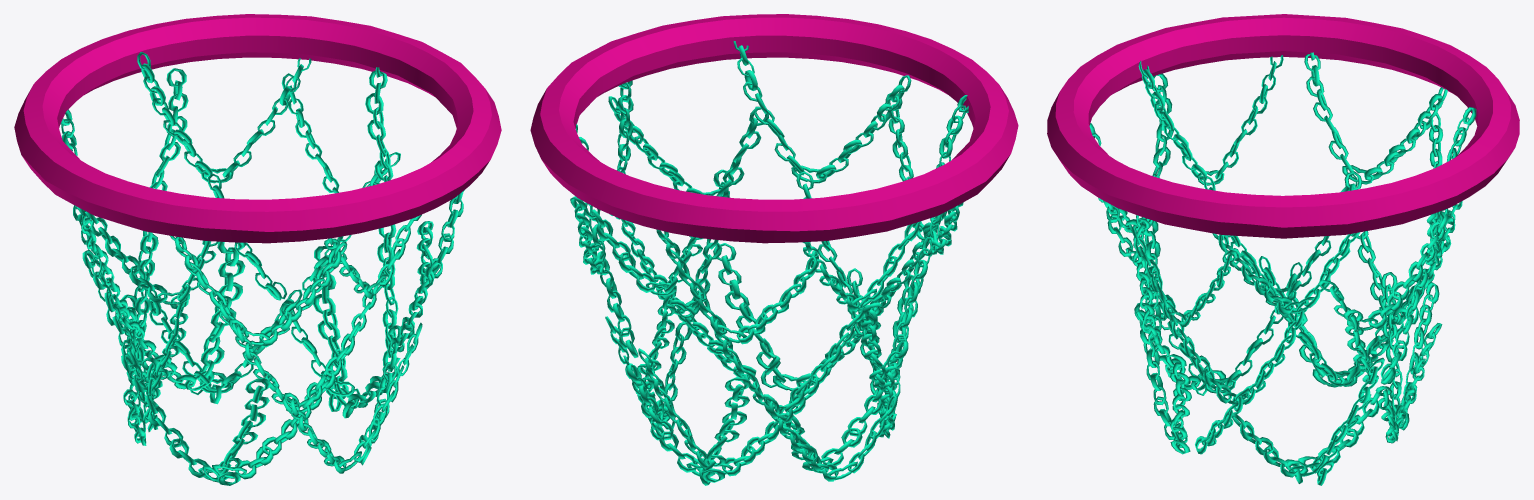
Rendered from NetBasket.fbx.
The picture shows the model from 3 angles, left to right: view 1: azimuth 30°, elevation 25°; view 2: azimuth 150°, elevation 25°; view 3: azimuth 270°, elevation 25°; orthographic projection. The views are drawn at different scales.
Parts seen in each view (by area): view 1: Object; view 2: Object; view 3: Object.
Boxes of the visible parts, x1,y1,x2,y2 form: Object: (14,14,501,485); Object: (530,14,1018,485); Object: (1047,14,1519,485).
Bounding box in the file's own units: 3.71 × 2.86 × 3.68.
